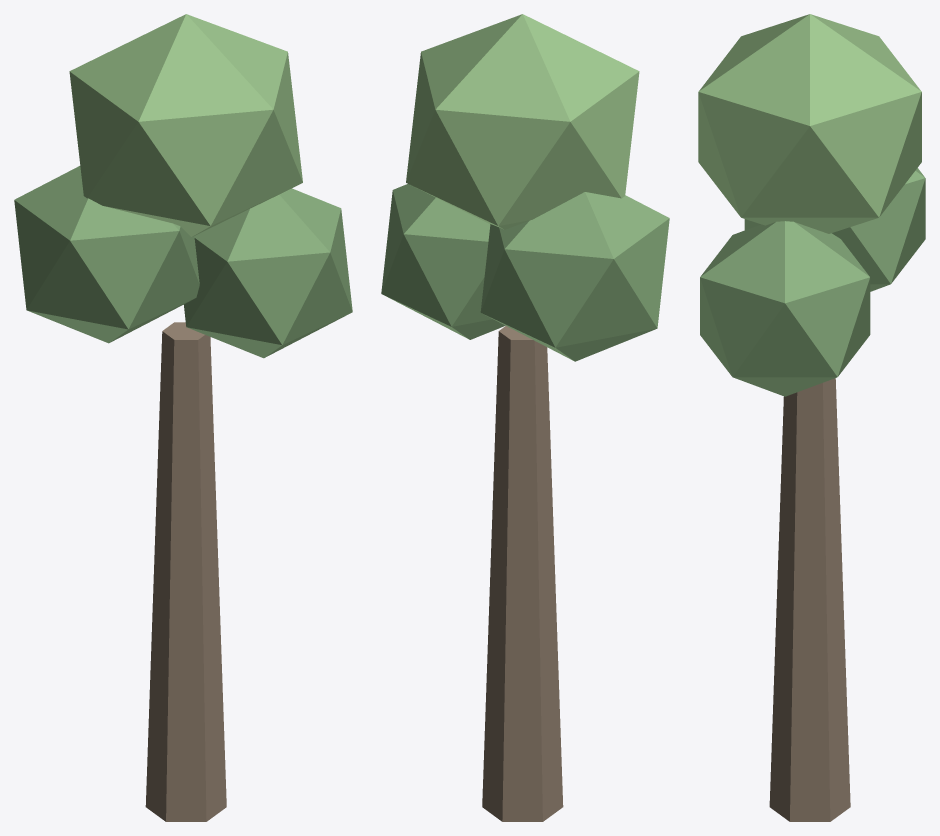
Rendered from tree_ash.glb.
3 renders of one model, left to right at view 1: azimuth 30°, elevation 25°; view 2: azimuth 150°, elevation 25°; view 3: azimuth 270°, elevation 25°, orthographic.
Parts seen in each view (by area): view 1: tree_ash; view 2: tree_ash; view 3: tree_ash.
Boxes of the visible parts, x1,y1,x2,y2 form: tree_ash: (14, 14, 352, 821); tree_ash: (381, 14, 669, 821); tree_ash: (698, 14, 925, 821).
Bounding box in the file's own units: 0.2676 × 0.6998 × 0.1816.
